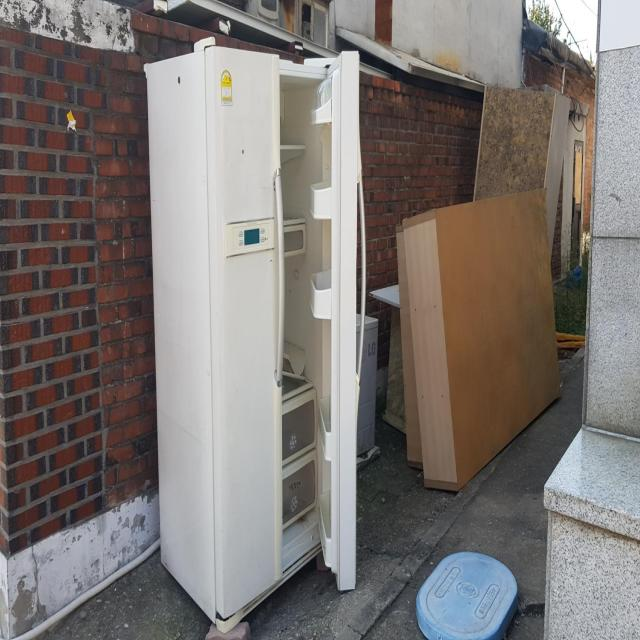refrigerator: (144, 35, 366, 633)
